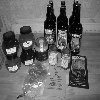beer: (68, 1, 83, 52)
